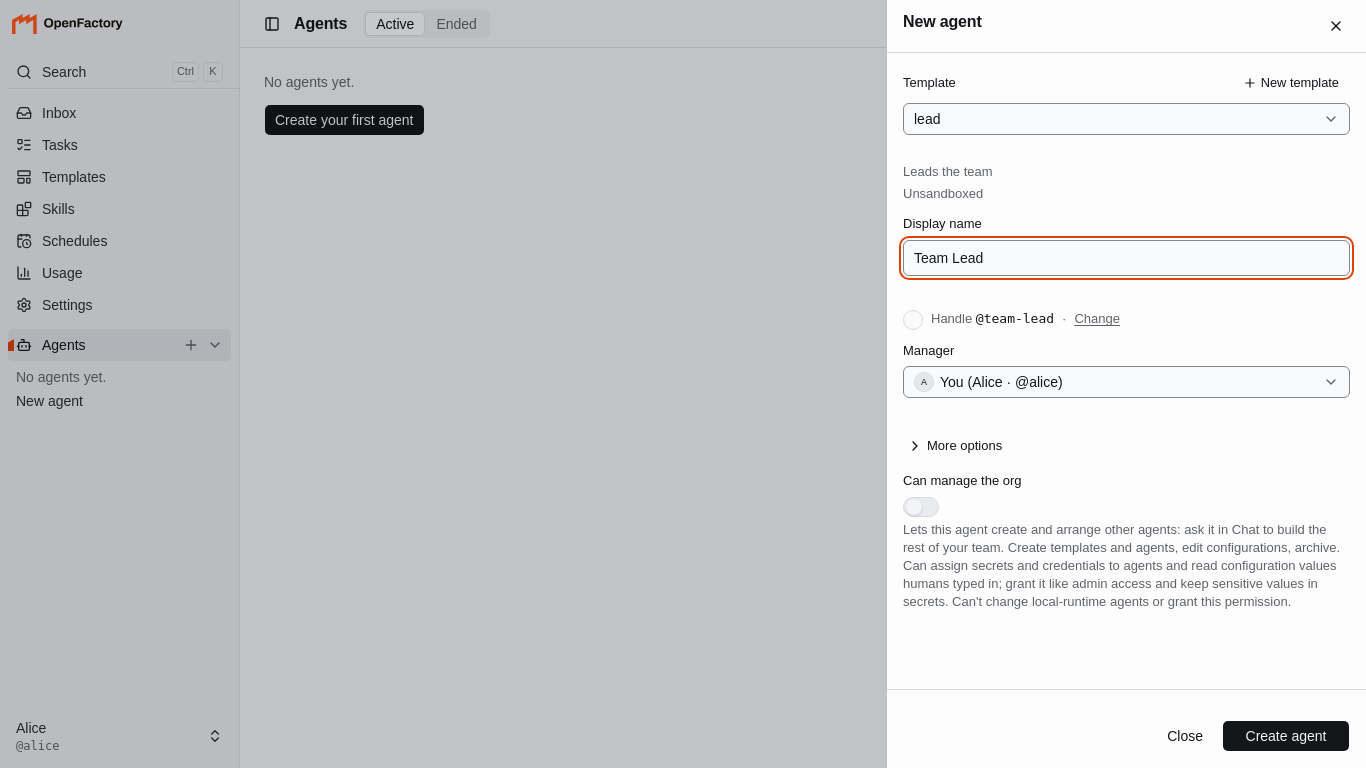
one credential is preselected and More options stays closed
Later steps or results of the test are not shown.
Expected: the button "Create agent" is shown, top-left (1222, 720), bottom-right (1350, 752)
Expected: the field labelled "Display name" holds "Team Lead", top-left (903, 240), bottom-right (1350, 276)
Click the button "More options" at (955, 446), box top-left (903, 432), bottom-right (1006, 460)
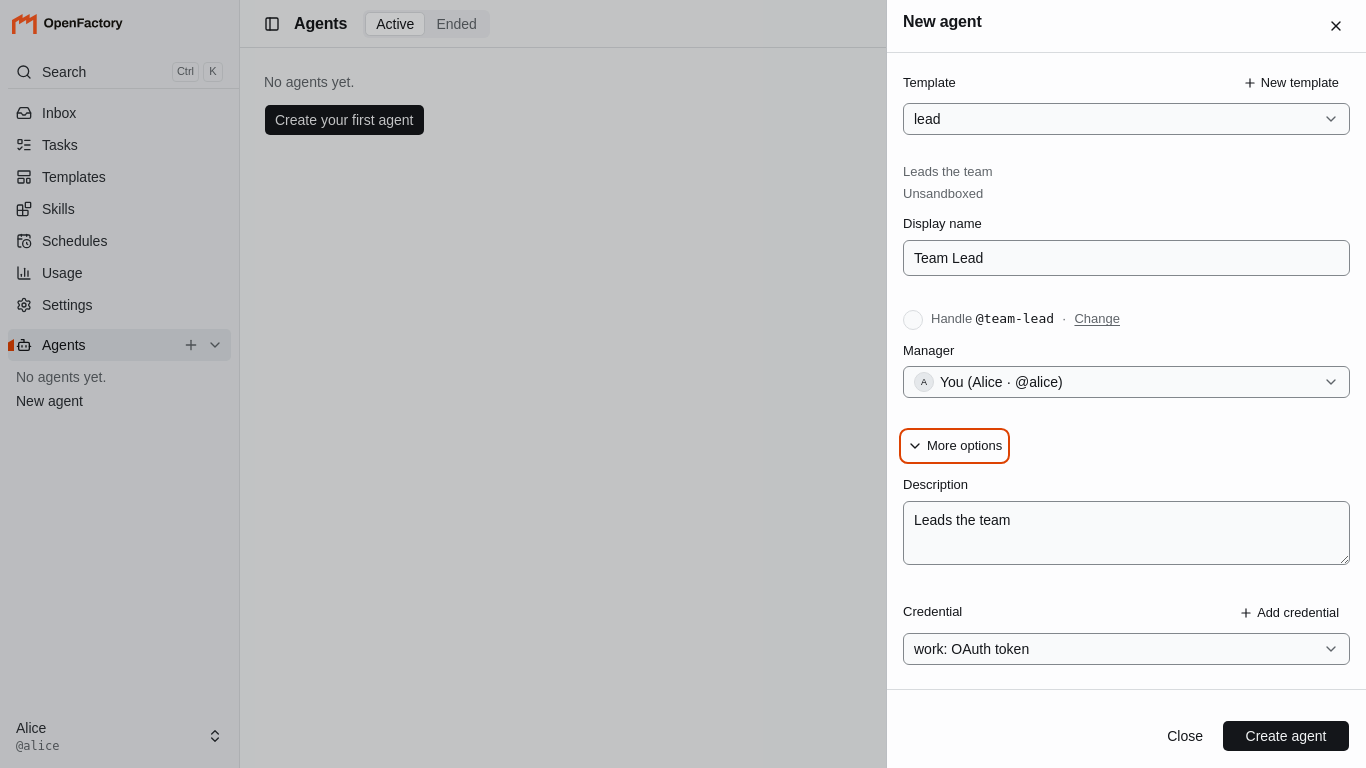
Expected: the dropdown named "Credential" shows "work", top-left (903, 633), bottom-right (1350, 665)
